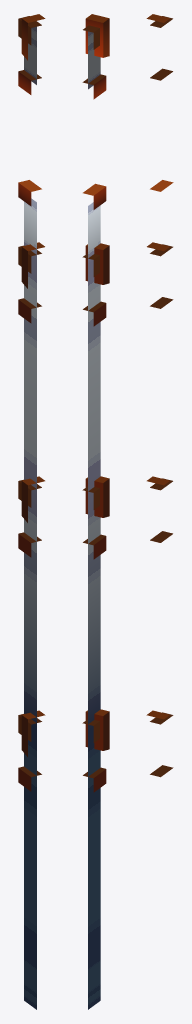
3 views of the same model, side by side, from view 1: azimuth 30°, elevation 25°; view 2: azimuth 150°, elevation 25°; view 3: azimuth 330°, elevation 25° (orthographic).
Bounding box in the file's own units: 0.7891 × 42.25 × 1.
2 materials, 2 textured.
